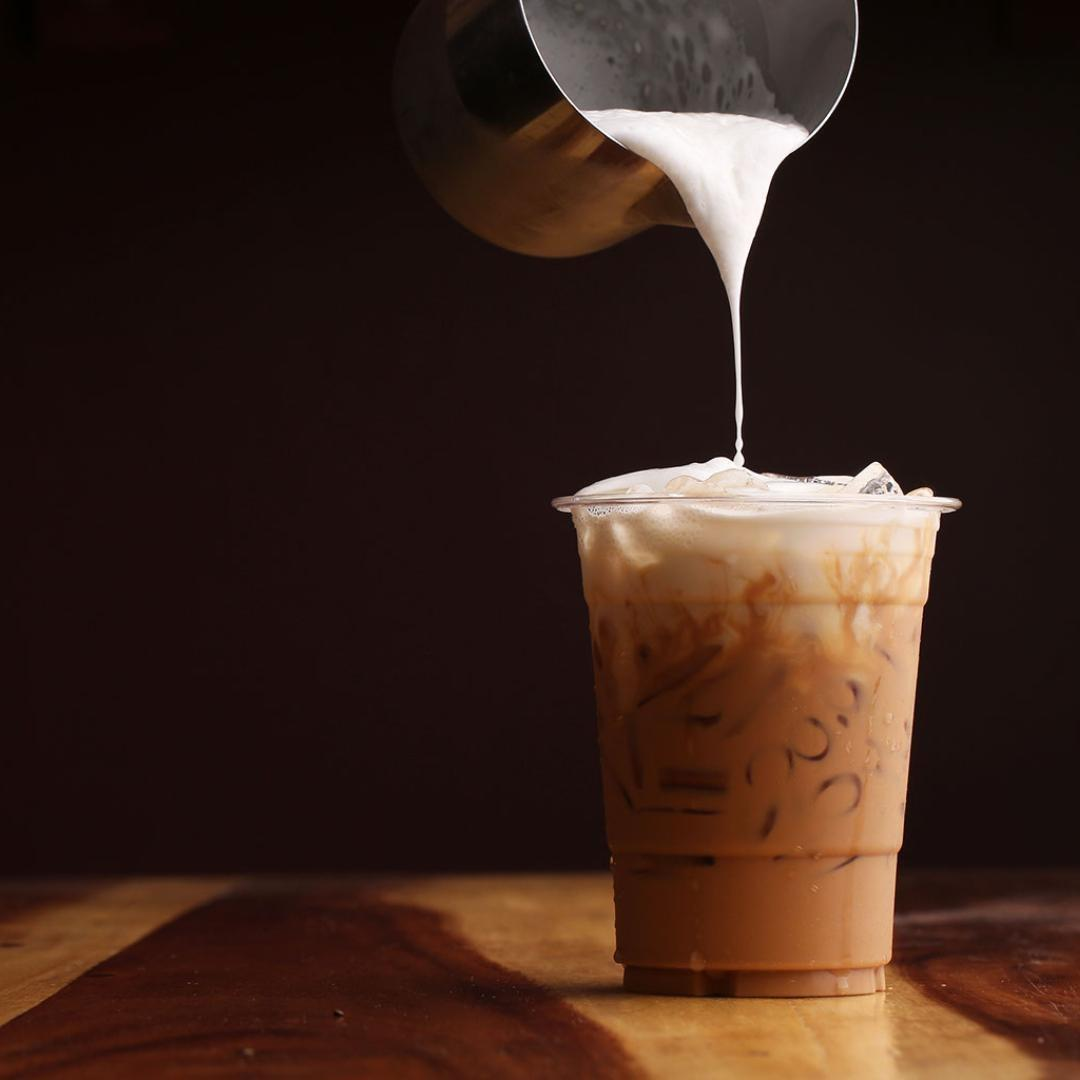cup-disposable: (550, 470, 968, 1005)
